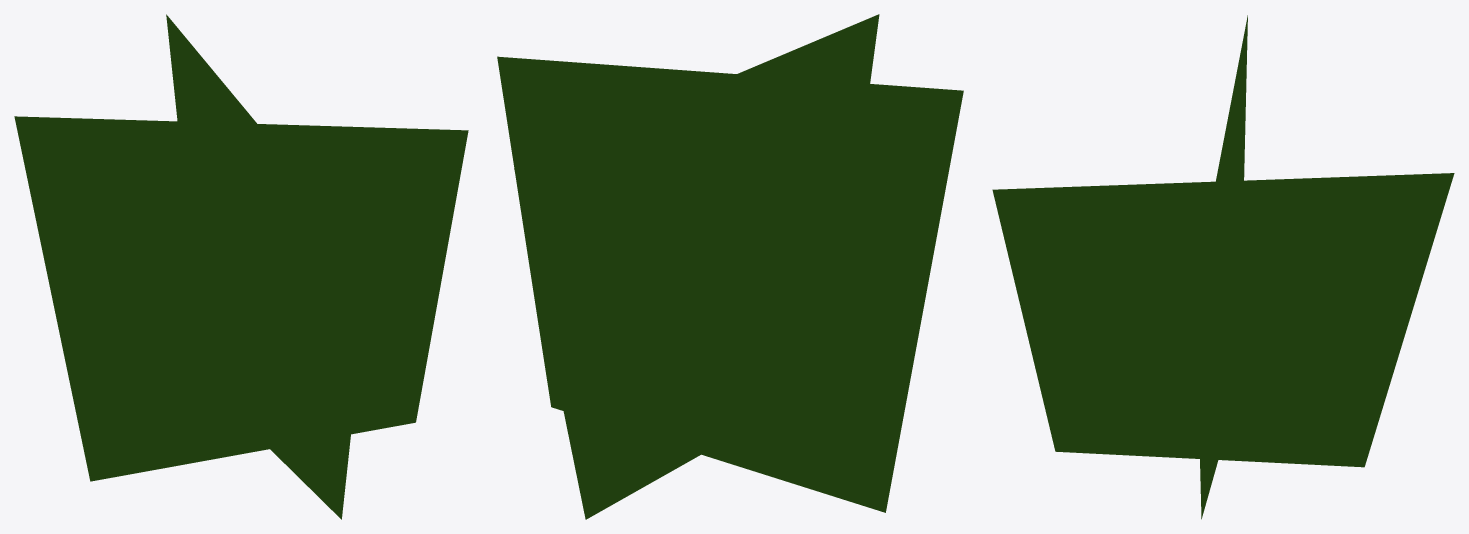
Rendered from S_Thin-Grass_LOD_01.fbx.
The picture shows the model from 3 angles, left to right: view 1: azimuth 30°, elevation 25°; view 2: azimuth 150°, elevation 25°; view 3: azimuth 270°, elevation 25°; orthographic projection. The views are drawn at different scales.
Visible parts, largest first — view 1: Plane002; view 2: Plane002; view 3: Plane002.
Boxes of the visible parts, x1,y1,x2,y2 form: Plane002: (14,14,468,519); Plane002: (497,14,963,519); Plane002: (992,15,1454,519).
Bounding box in the file's own units: 99.67 × 84.93 × 104.
